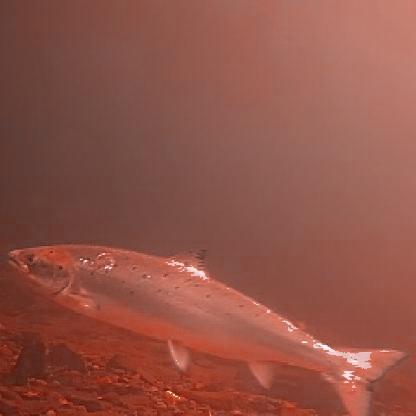salmon: (2, 236, 409, 414)
